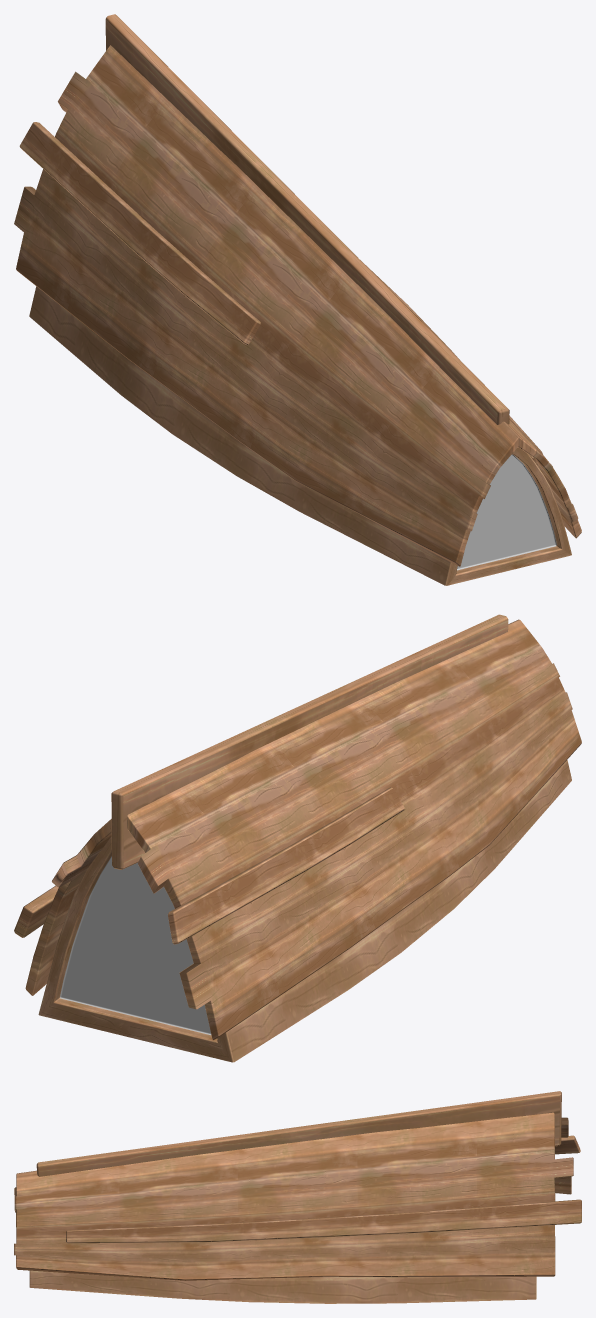
The model's file is SM_Roof_A.fbx.
The picture shows the model from 3 angles, top to bottom: view 1: azimuth 30°, elevation 25°; view 2: azimuth 150°, elevation 25°; view 3: azimuth 270°, elevation 25°; orthographic projection. The views are drawn at different scales.
Parts seen in each view (by area): view 1: SM_Roof_A_LOD0; view 2: SM_Roof_A_LOD0; view 3: SM_Roof_A_LOD0.
Part boxes in pixels (x1,y1,x2,y2): SM_Roof_A_LOD0: (14, 14, 581, 585); SM_Roof_A_LOD0: (14, 614, 581, 1062); SM_Roof_A_LOD0: (14, 1091, 581, 1303).
Size of the model in its own units: 376 by 1232 by 420.
3 materials, 2 textured.
